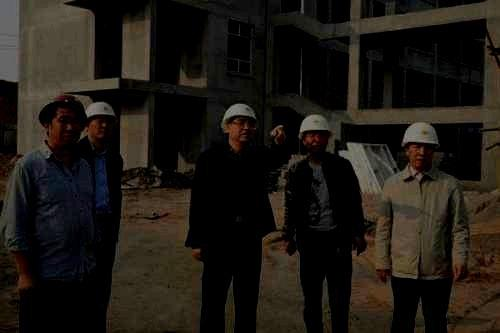helmet: (38, 94, 88, 148), (401, 121, 439, 169), (221, 103, 258, 144), (298, 114, 333, 156), (84, 102, 116, 140)
